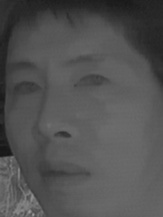eye: (73, 71, 112, 96), (10, 78, 45, 99)
mouth: (35, 154, 96, 188)
